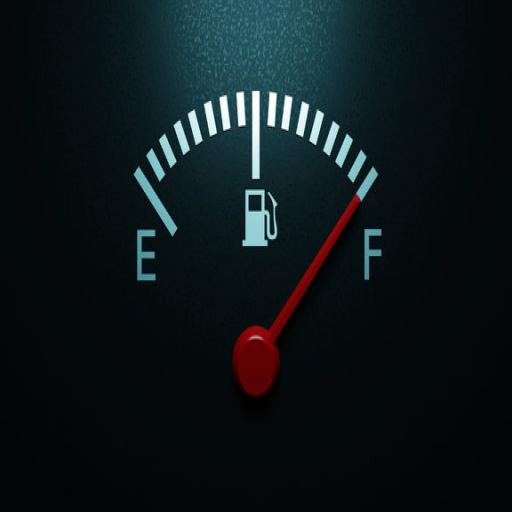empty: (132, 224, 162, 295)
fuel_icon: (239, 186, 280, 252)
full: (362, 224, 384, 288)
guage_area: (97, 64, 430, 470)
needle_center: (228, 309, 290, 419)
needle_tip: (347, 188, 362, 225)
